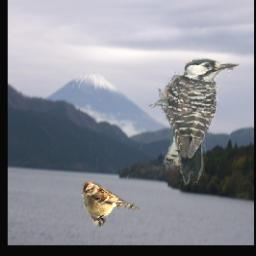Sparrow: (82, 182, 140, 228)
Woodpecker: (147, 58, 241, 186)
